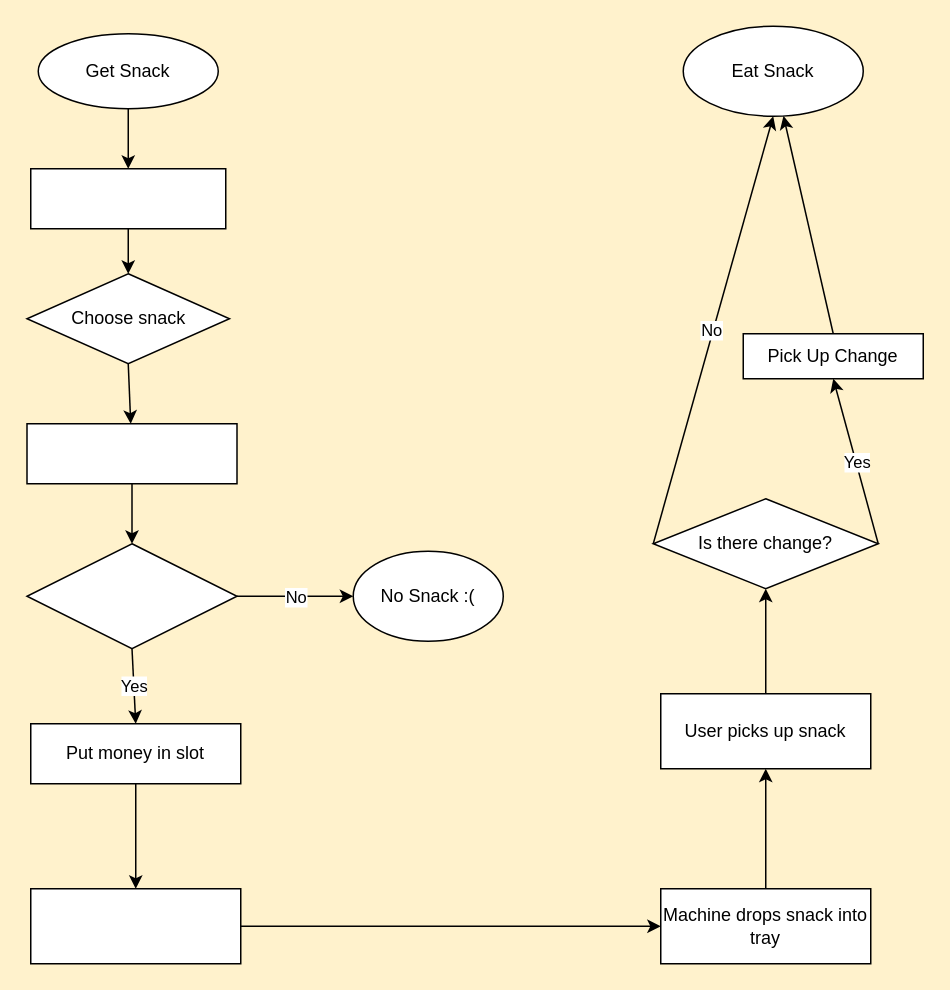
This 950x990 diagram has some shape labels left out. The shapes that lost their labels are listed below. From the top down, each one's box as (x1, y1, x2, y2) in pixels, then its label:
(29, 167, 226, 229): View available snacks
(26, 422, 237, 484): Check price of desired snack
(26, 542, 237, 649): Does user have enough change?
(29, 887, 241, 964): Type in code of desired snack
